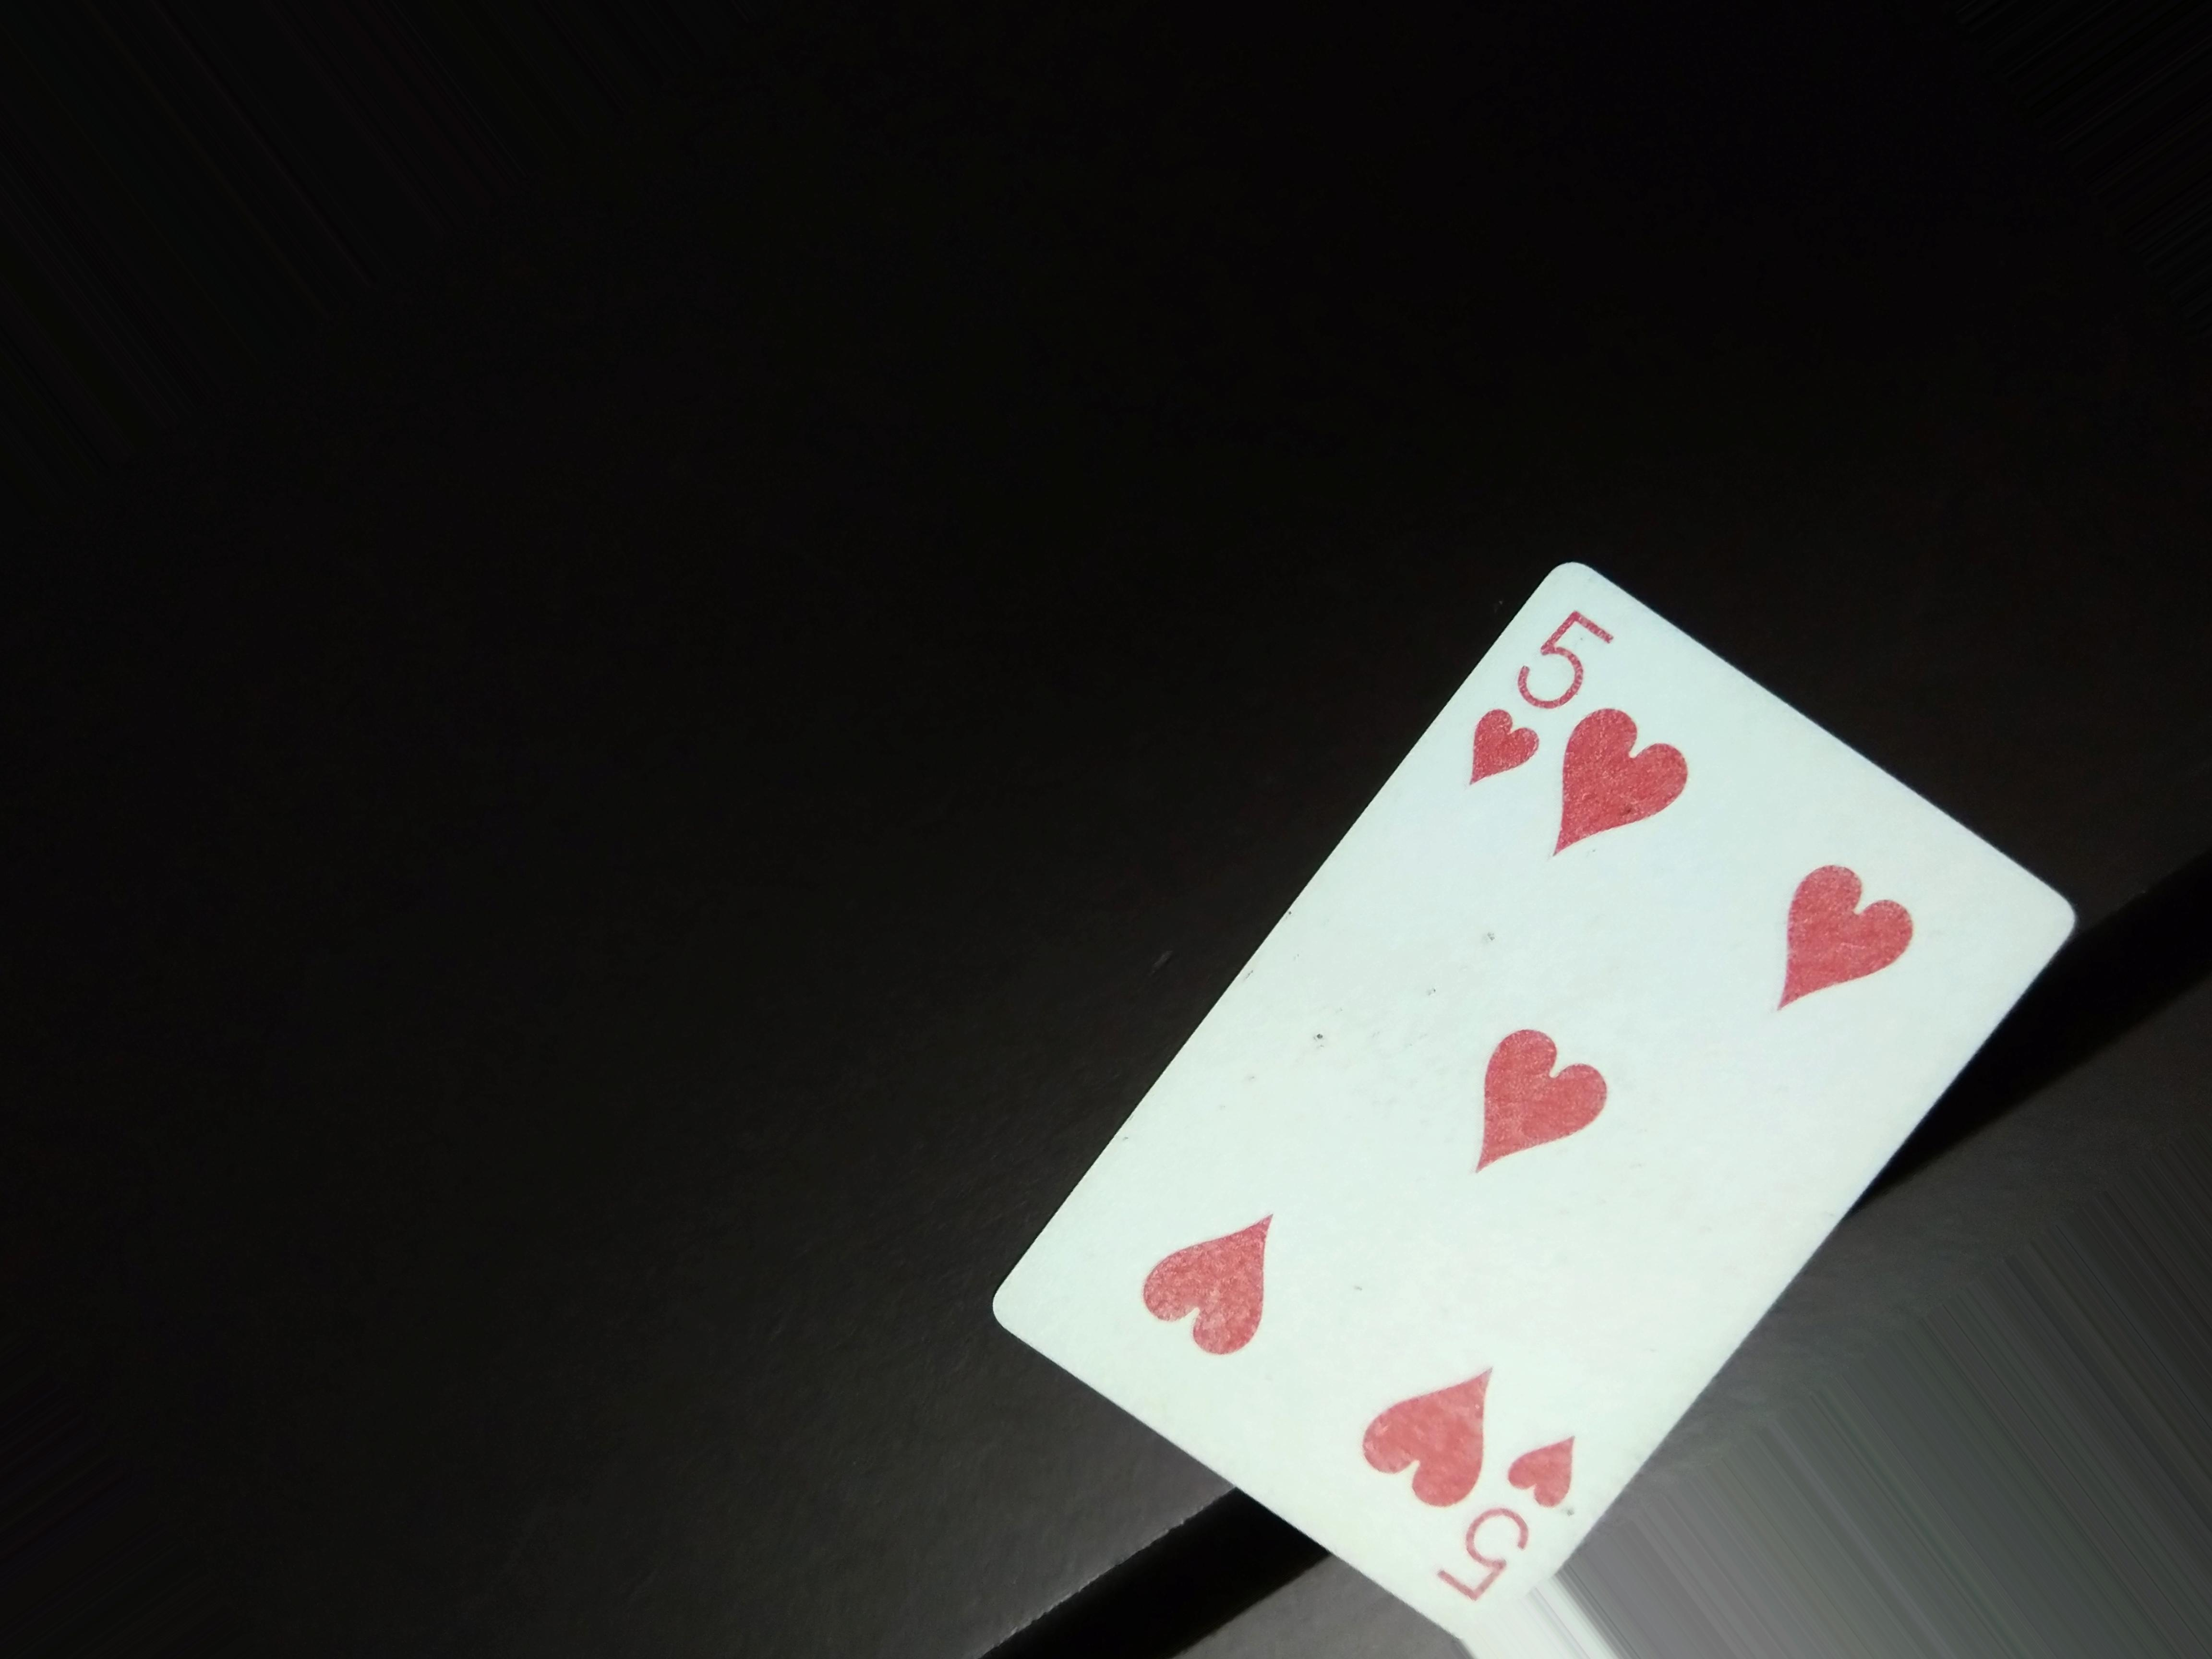5H: (1477, 580, 1609, 805)
